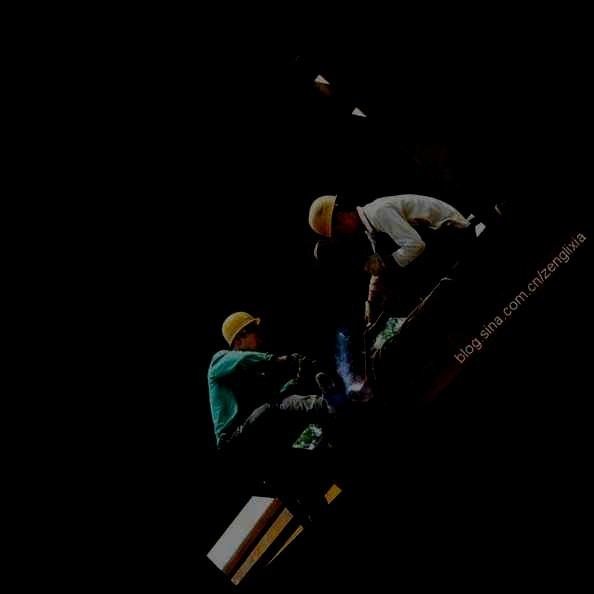helmet: (308, 194, 363, 242), (221, 311, 264, 352)
